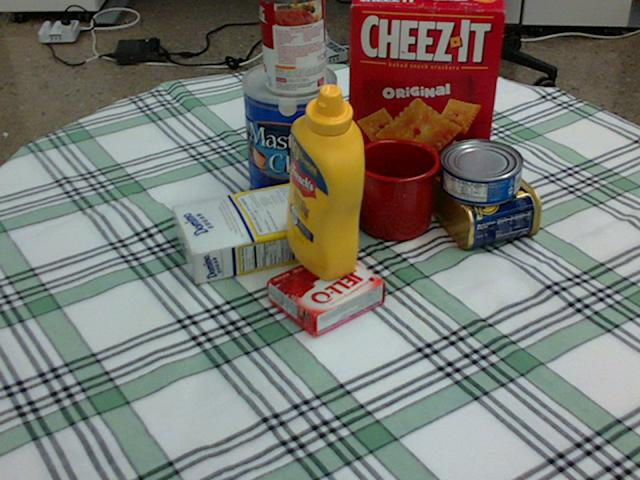cracker_box: (347, 0, 506, 187)
gelatin_box: (268, 249, 386, 336)
master_chef_can: (240, 59, 335, 212)
mug: (354, 137, 442, 239)
mustard_bottle: (286, 83, 363, 279)
potted_meat_can: (428, 154, 540, 245)
sugar_box: (169, 174, 356, 283)
tomato_soup_can: (259, 0, 326, 95)
tuna_fish_can: (439, 140, 522, 204)
